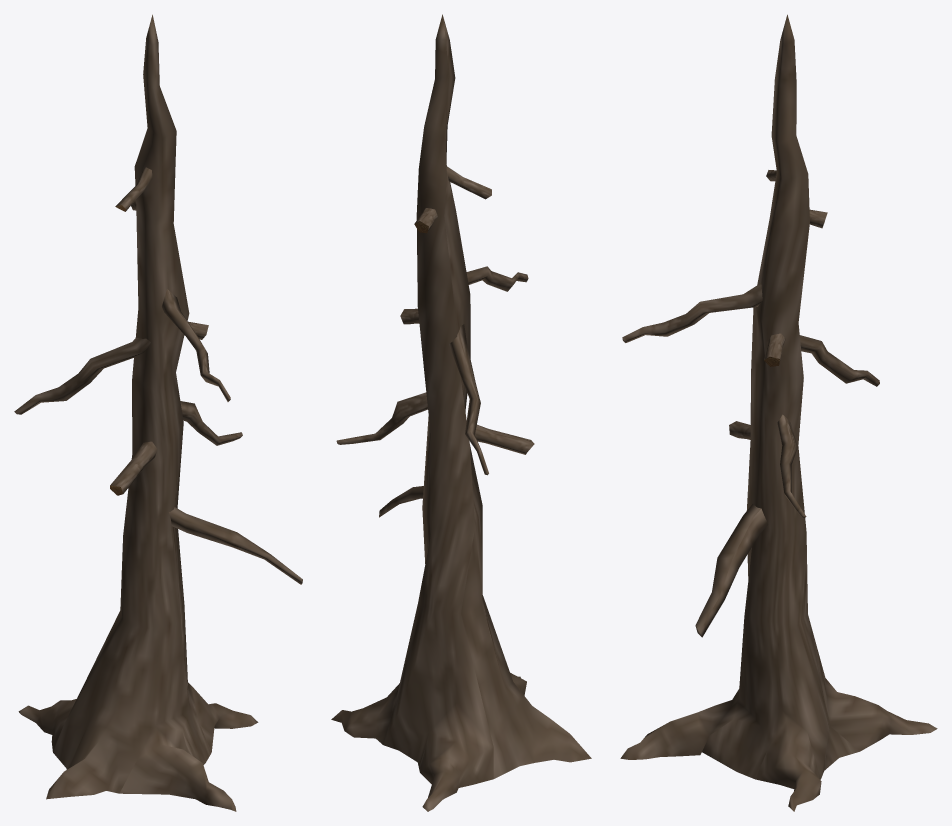
The model's file is Tree_Dead1.fbx.
3 renders of one model, left to right at view 1: azimuth 30°, elevation 25°; view 2: azimuth 150°, elevation 25°; view 3: azimuth 270°, elevation 25°, orthographic.
Parts seen in each view (by area): view 1: Tree_Dead1; view 2: Tree_Dead1; view 3: Tree_Dead1.
Boxes of the visible parts, <box> form: Tree_Dead1: <box>14,14,302,811</box>; Tree_Dead1: <box>331,14,591,811</box>; Tree_Dead1: <box>620,14,937,811</box>.
Size of the model in its own units: 227 by 673 by 260.
1 material, 1 textured.
